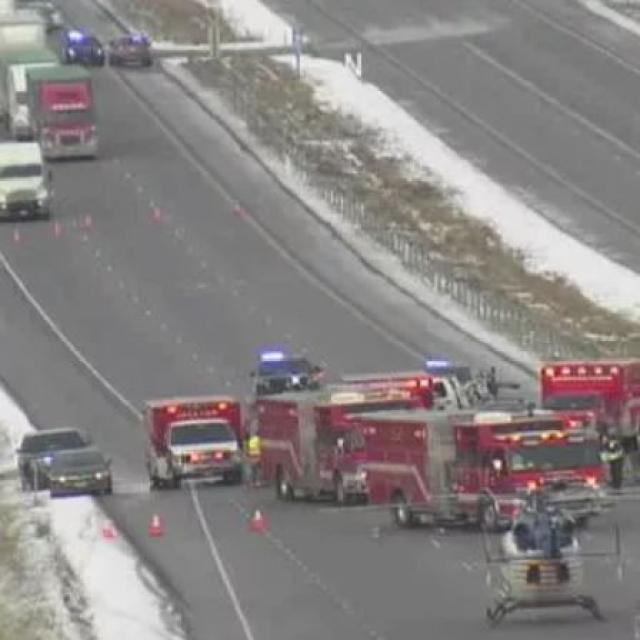traffic_incident: (259, 352, 617, 518)
